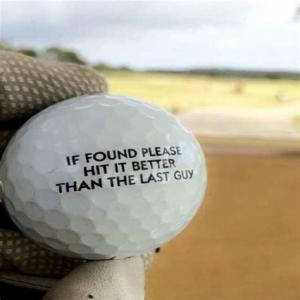Golf: (0, 93, 205, 254)
